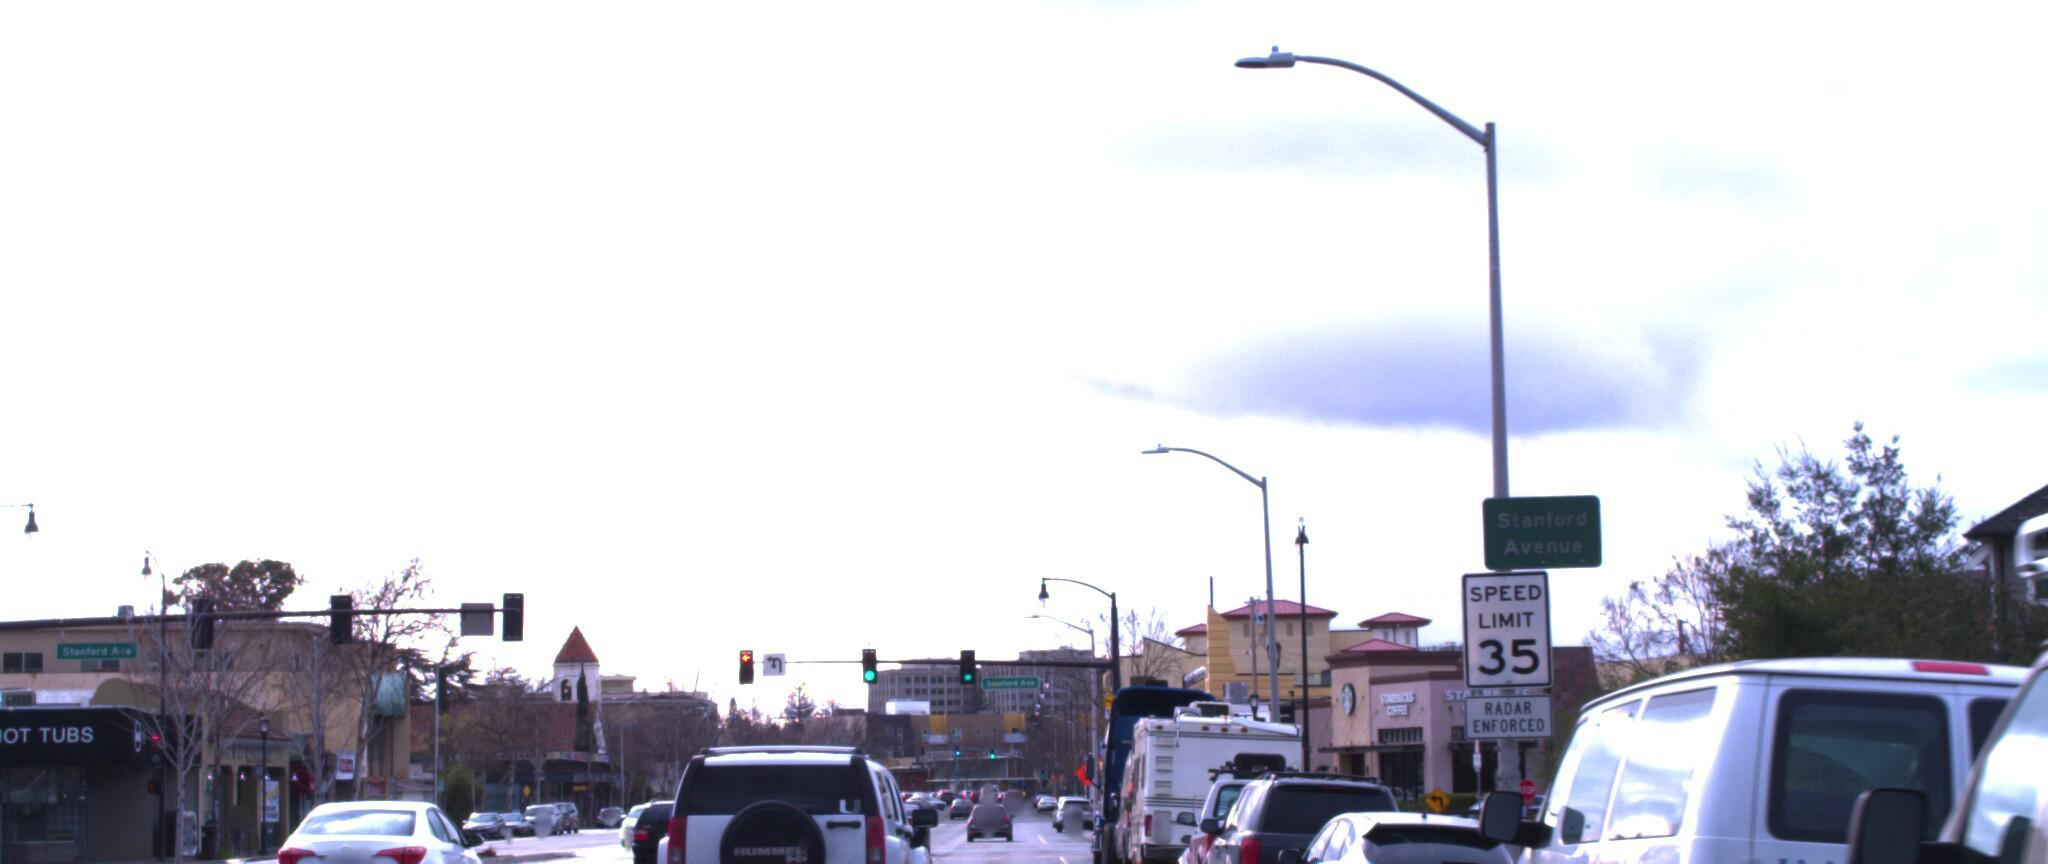car: (1772, 283, 2048, 864), (1464, 645, 2048, 864), (616, 731, 935, 864), (1186, 760, 1418, 864), (1177, 747, 1369, 864), (1256, 794, 1539, 864), (259, 784, 503, 864)
other_vehicle: (1122, 677, 1309, 864)
truck: (1095, 677, 1237, 856)
